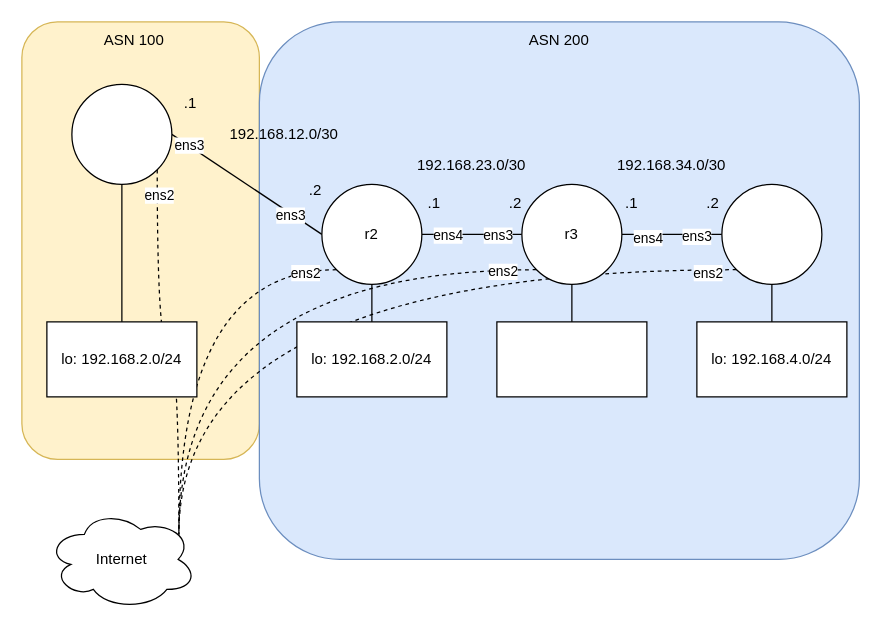
Image size: 881x631. Some labels were removed from this diagram. The centre of each missing label's shape, as x and y in pixels:
lo: 192.168.3.0/24 route-reflector: the point at 571,359
r1: the point at 121,133
r4: the point at 771,233
